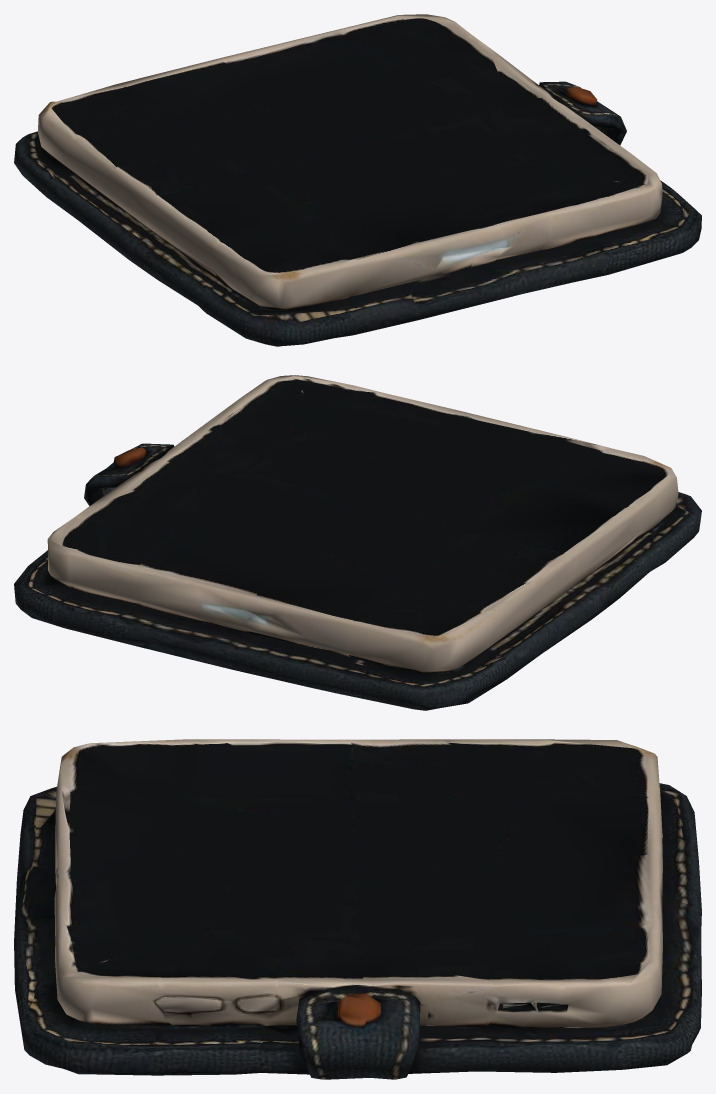
The model's file is slate.low.glb.
The picture shows the model from 3 angles, top to bottom: view 1: azimuth 30°, elevation 25°; view 2: azimuth 150°, elevation 25°; view 3: azimuth 270°, elevation 25°; orthographic projection. The views are drawn at different scales.
Visible parts, largest first — view 1: tripo_node_06b091ca-d2d3-42b4-b872-ccc9c1d0f15d; view 2: tripo_node_06b091ca-d2d3-42b4-b872-ccc9c1d0f15d; view 3: tripo_node_06b091ca-d2d3-42b4-b872-ccc9c1d0f15d.
Boxes of the visible parts, left/top/right/bottom form: tripo_node_06b091ca-d2d3-42b4-b872-ccc9c1d0f15d: left=14, top=14, right=701, bottom=346; tripo_node_06b091ca-d2d3-42b4-b872-ccc9c1d0f15d: left=14, top=375, right=701, bottom=710; tripo_node_06b091ca-d2d3-42b4-b872-ccc9c1d0f15d: left=14, top=739, right=701, bottom=1079.
Size of the model in its own units: 0.2997 by 0.0432 by 0.2989.
1 material, 1 textured.
